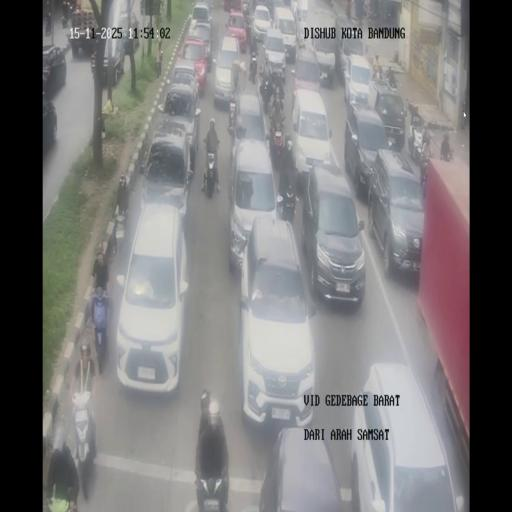car: (351, 362, 464, 508), (116, 202, 190, 396), (302, 164, 365, 306), (228, 137, 280, 270), (370, 151, 425, 275), (260, 429, 341, 511), (140, 123, 193, 216), (290, 88, 336, 191), (369, 82, 406, 148), (213, 35, 243, 108), (343, 54, 373, 111), (90, 38, 125, 86), (110, 4, 140, 54), (168, 58, 200, 102), (262, 25, 288, 78), (293, 47, 321, 95), (69, 10, 98, 56), (42, 46, 67, 98), (187, 20, 212, 70), (251, 3, 273, 44), (42, 99, 58, 154), (267, 0, 285, 22), (294, 0, 308, 24)
motorcycle: (70, 387, 98, 500), (196, 464, 229, 511), (89, 295, 109, 369), (201, 148, 219, 198), (277, 178, 297, 222), (269, 116, 286, 166), (408, 122, 426, 163), (271, 69, 285, 108), (227, 90, 238, 137), (419, 154, 430, 196), (338, 42, 350, 79), (407, 100, 422, 127), (248, 53, 258, 83), (440, 141, 454, 162), (366, 2, 380, 22), (386, 66, 398, 88), (244, 18, 252, 48), (372, 62, 383, 80), (44, 12, 52, 35), (241, 0, 250, 16), (362, 1, 369, 18), (61, 12, 68, 28)
